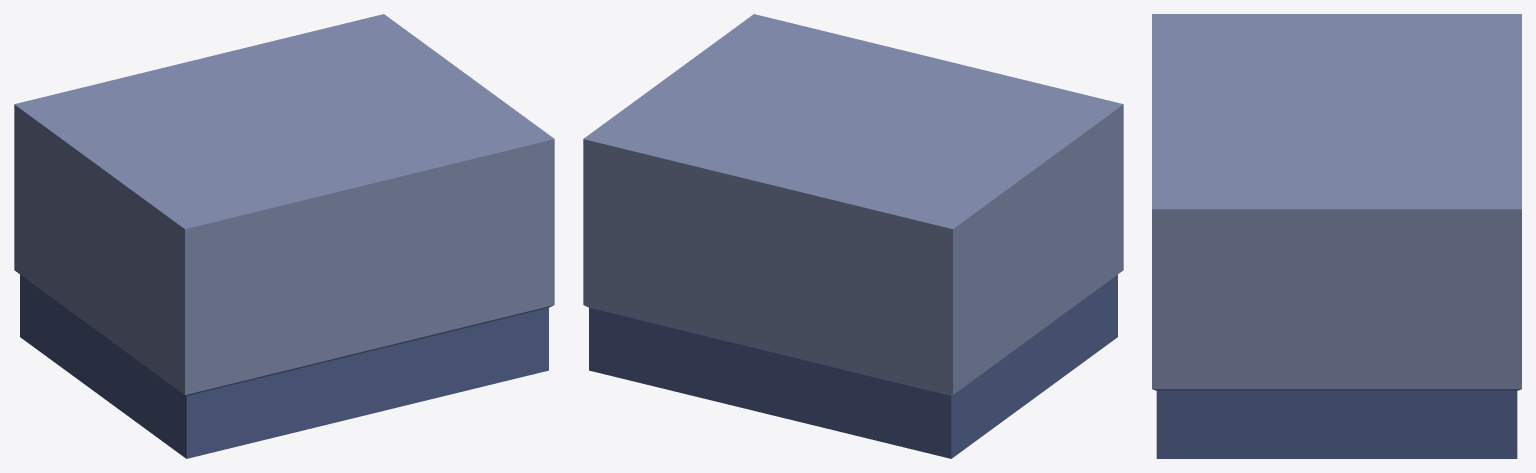
The model's file is room_test.glb.
3 views of the same model, side by side, from view 1: azimuth 30°, elevation 25°; view 2: azimuth 150°, elevation 25°; view 3: azimuth 270°, elevation 25° (orthographic). The views are drawn at different scales.
Visible parts, largest first — view 1: Cube; view 2: Cube; view 3: Cube.
Part boxes in pixels (x1,y1,x2,y2): Cube: [14, 14, 554, 458]; Cube: [583, 14, 1123, 458]; Cube: [1152, 14, 1521, 458].
Bounding box in the file's own units: 5 × 3 × 4.
